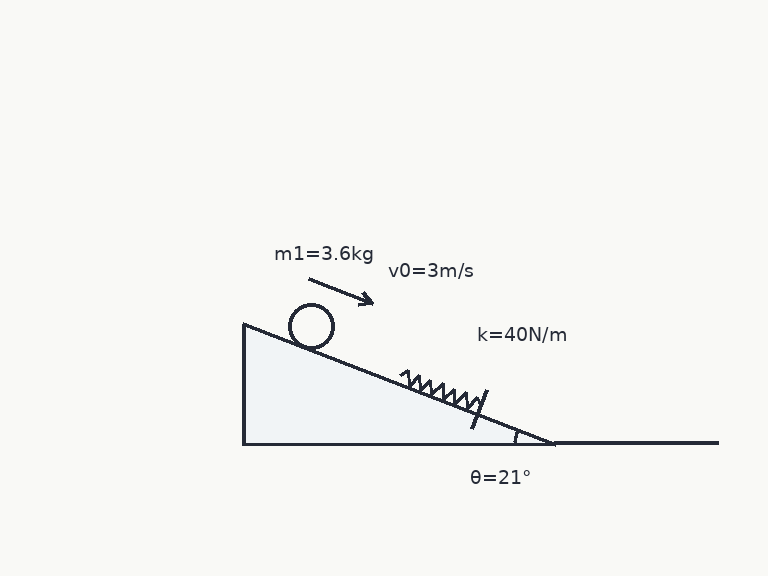ball: (286, 301, 336, 351)
ramp: (242, 323, 557, 446)
spring: (398, 368, 483, 410)
